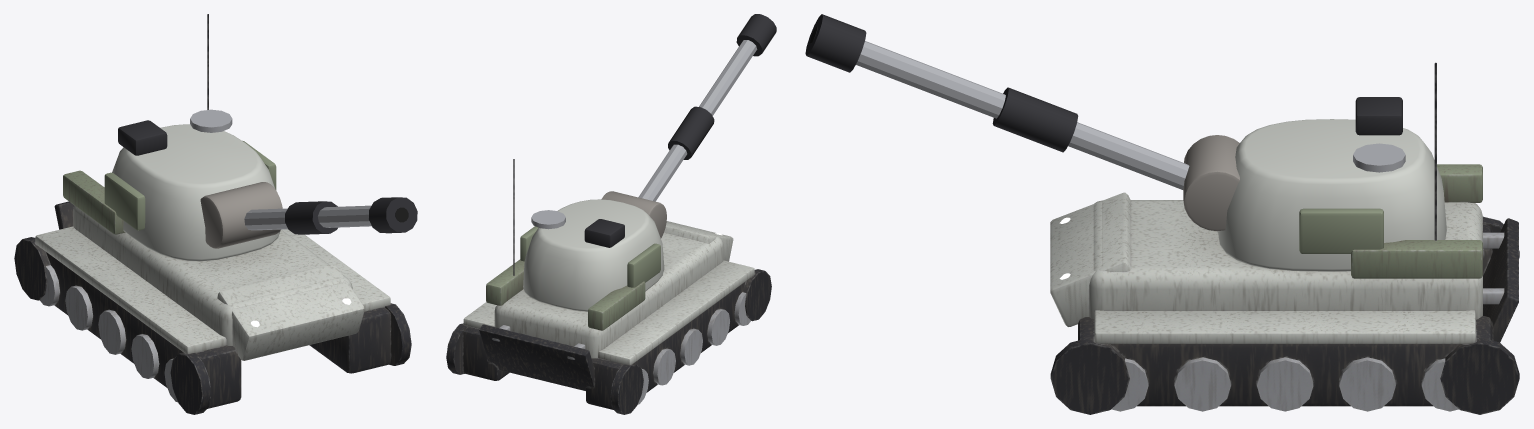
File: artillery.glb
3 views of the same model, side by side, from view 1: azimuth 30°, elevation 25°; view 2: azimuth 150°, elevation 25°; view 3: azimuth 270°, elevation 25° (orthographic). The views are drawn at different scales.
Parts seen in each view (by area): view 1: Hull, Turret, Barrel; view 2: Hull, Turret, Barrel; view 3: Hull, Turret, Barrel.
Part boxes in pixels (x1=…): Hull: x1=14, y1=14, x2=411, y2=414; Turret: x1=104, y1=109, x2=282, y2=261; Barrel: x1=244, y1=197, x2=417, y2=234; Hull: x1=446, y1=159, x2=771, y2=414; Turret: x1=520, y1=191, x2=666, y2=311; Barrel: x1=638, y1=14, x2=776, y2=201; Hull: x1=1050, y1=62, x2=1519, y2=414; Turret: x1=1183, y1=97, x2=1446, y2=271; Barrel: x1=805, y1=14, x2=1189, y2=189.
Size of the model in its own units: 3.2 by 3.92 by 7.58.
11 materials, 5 textured.
